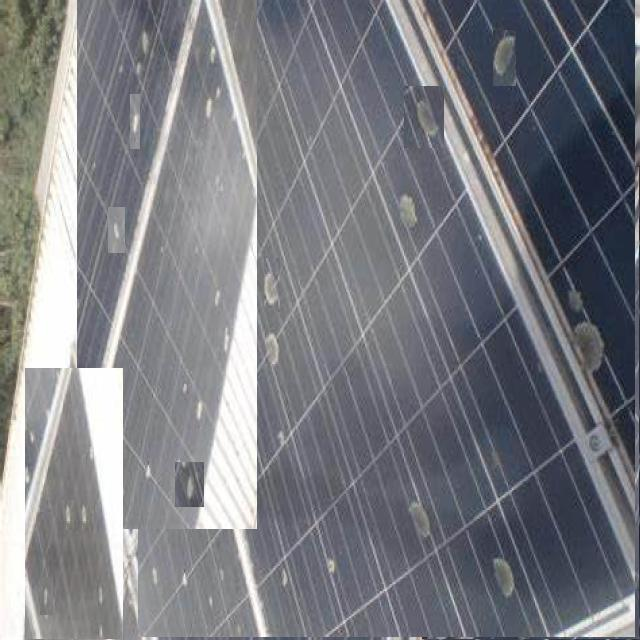Bird-drop: (404, 86, 444, 148), (573, 260, 609, 318), (395, 390, 424, 452), (175, 462, 204, 507), (493, 30, 516, 86), (112, 402, 136, 451), (265, 259, 281, 313), (108, 208, 125, 254), (130, 94, 140, 149), (40, 577, 53, 615), (59, 500, 75, 530)
Dusty: (138, 0, 635, 637), (422, 167, 640, 640), (77, 0, 257, 529), (25, 369, 123, 639)
